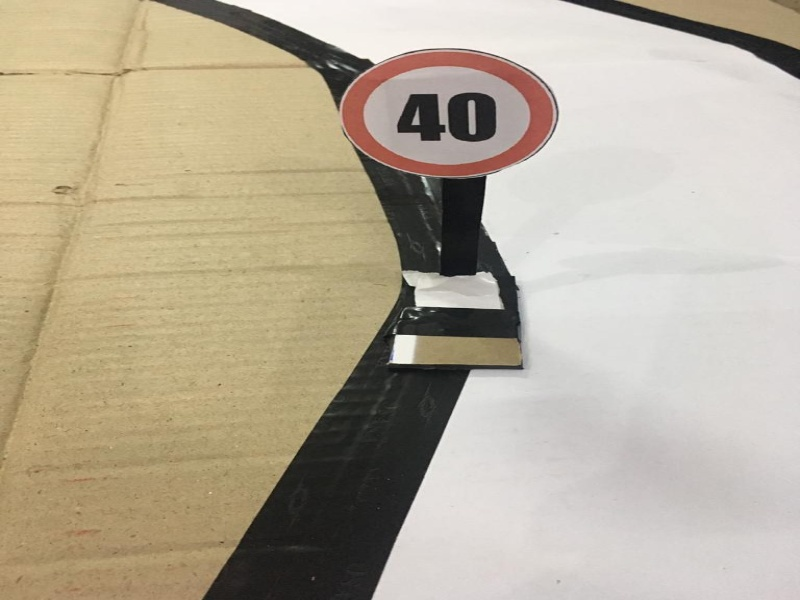Speed Limit 40: (340, 44, 557, 184)
